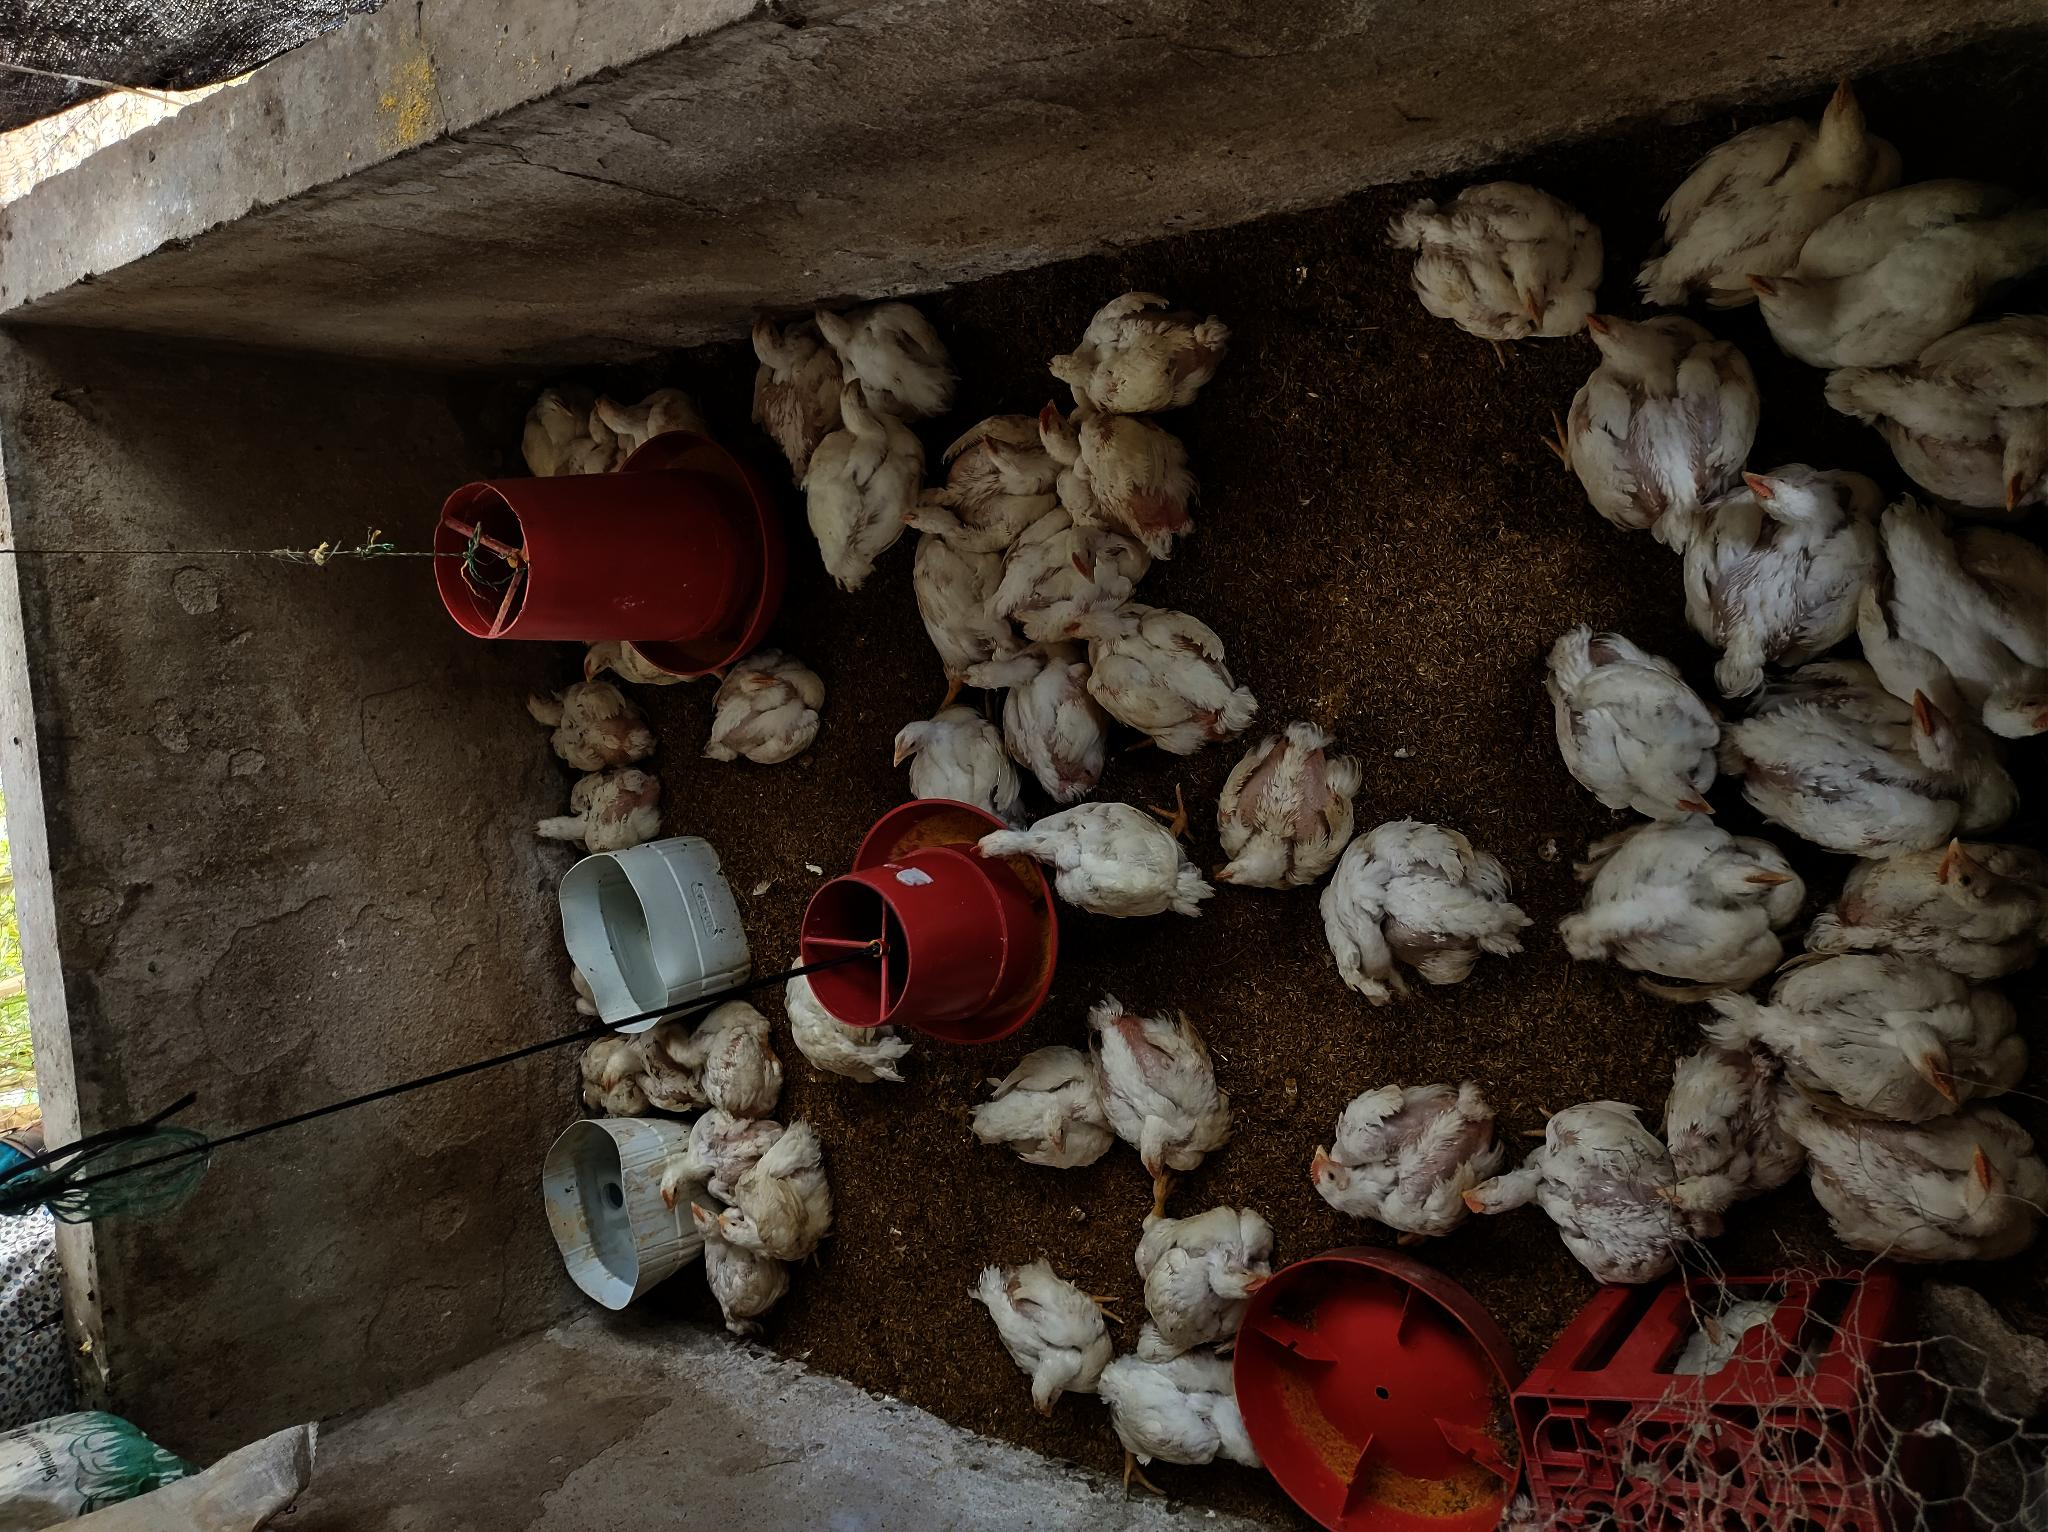Pollos: (1709, 919, 2040, 1114), (1646, 61, 1898, 306), (1725, 179, 2014, 369), (1552, 312, 1771, 557), (1781, 1085, 2045, 1270), (1813, 314, 2046, 512), (1726, 674, 2000, 838), (1462, 1093, 1721, 1263), (1882, 481, 2048, 740), (1310, 822, 1541, 1006), (1567, 814, 1812, 986), (1388, 187, 1617, 356), (1684, 455, 1873, 658), (1535, 620, 1715, 819), (962, 1258, 1166, 1431), (1046, 589, 1260, 745), (970, 801, 1219, 933), (1084, 988, 1248, 1184), (1839, 826, 2048, 975), (1302, 1081, 1506, 1231), (1038, 386, 1202, 557), (1078, 1336, 1252, 1492), (809, 373, 928, 595), (1207, 723, 1363, 892), (1039, 288, 1234, 422), (1649, 1051, 1812, 1210), (952, 644, 1102, 793), (989, 504, 1149, 644), (1123, 1213, 1285, 1344), (734, 307, 851, 476), (779, 948, 909, 1088), (906, 525, 1012, 694), (870, 698, 1017, 819), (806, 294, 949, 417), (684, 653, 829, 768), (714, 1122, 829, 1263), (972, 1056, 1115, 1159), (650, 1106, 787, 1210), (660, 998, 782, 1114), (681, 1197, 788, 1321), (512, 682, 661, 769), (529, 755, 656, 855), (890, 494, 1067, 565), (933, 414, 1063, 504), (512, 388, 623, 476), (589, 1027, 689, 1109), (589, 385, 695, 455), (573, 639, 679, 694)
